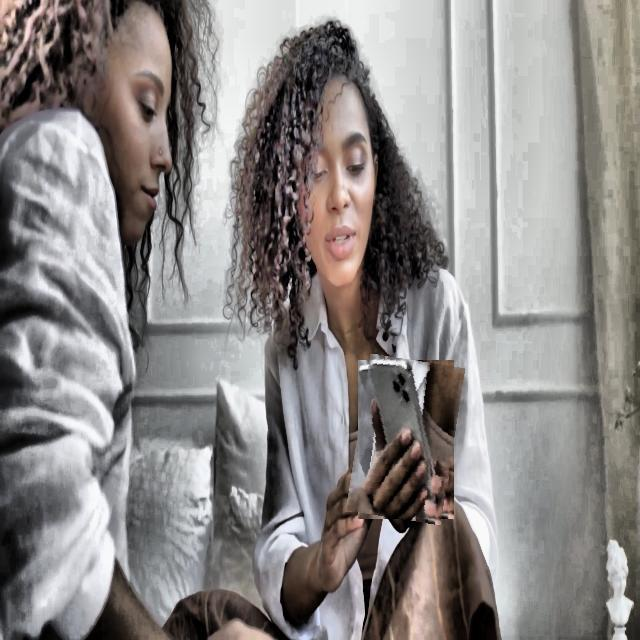Phone: (352, 357, 460, 522)
